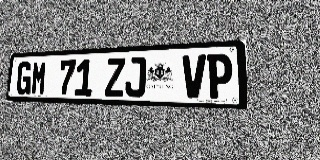1: (74, 59, 94, 96)
7: (57, 60, 76, 96)
G: (16, 61, 32, 95)
J: (125, 57, 146, 97)
M: (30, 61, 47, 95)
P: (207, 53, 233, 99)
V: (182, 54, 206, 98)
Z: (105, 58, 125, 97)
